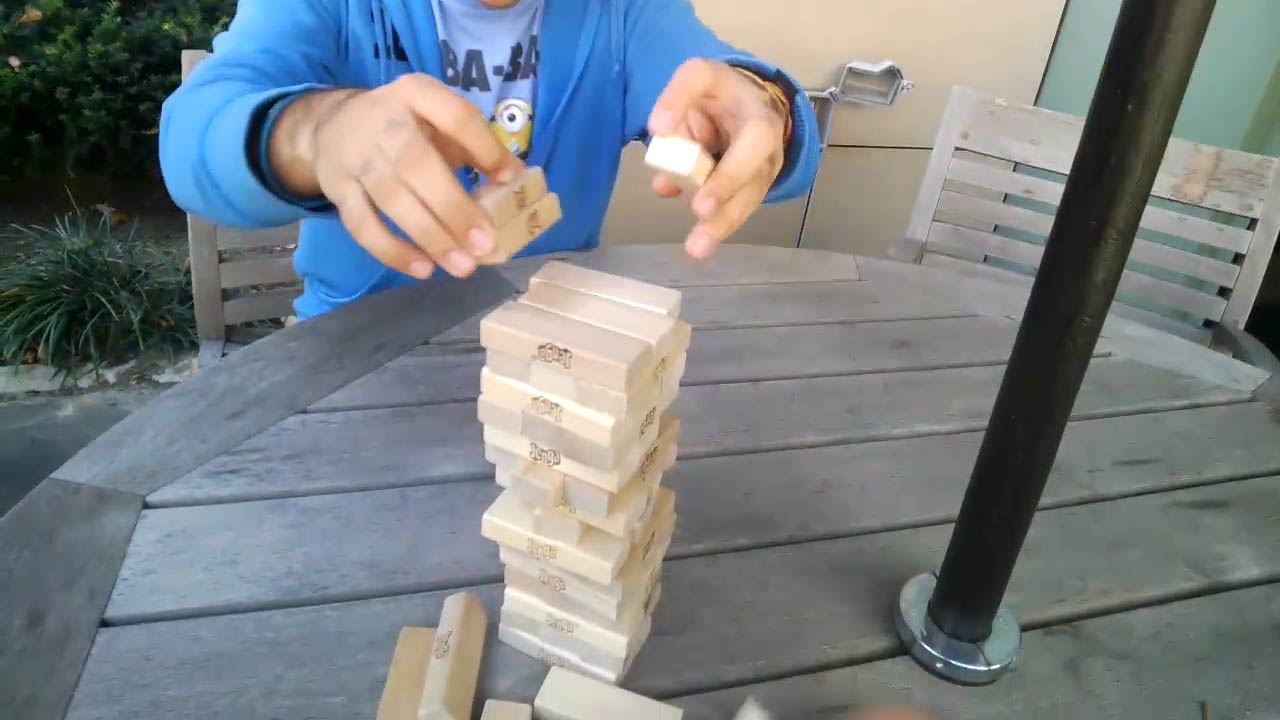hand: (311, 71, 524, 277), (646, 55, 785, 257), (851, 699, 929, 715)
